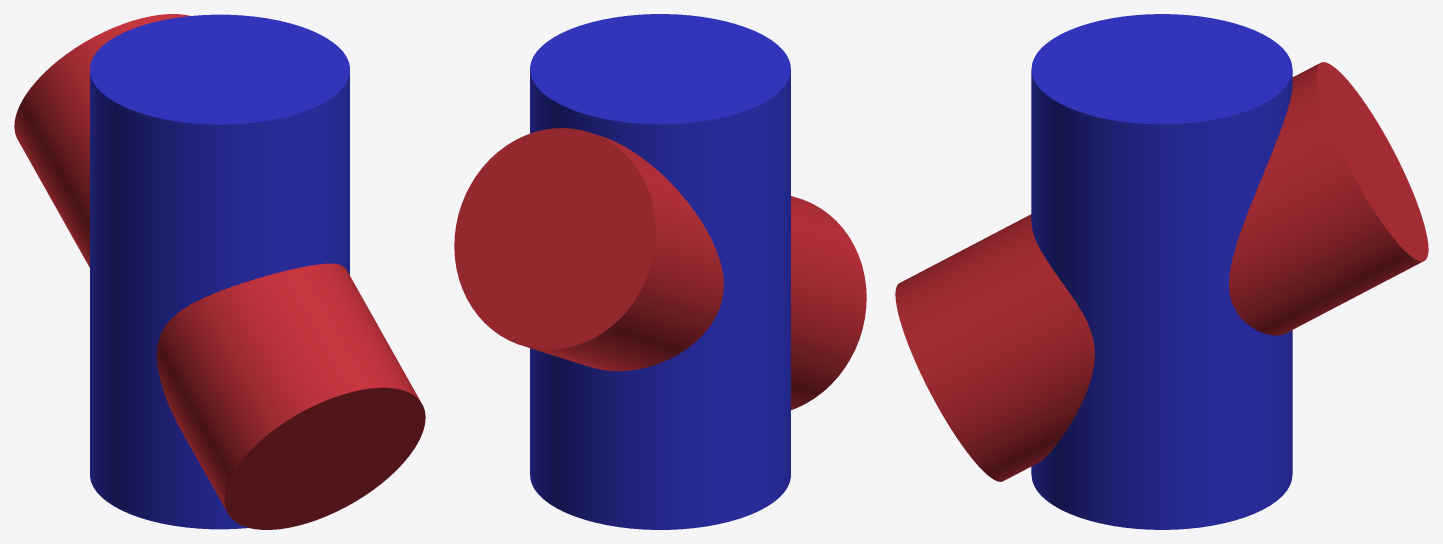
The picture shows the model from 3 angles, left to right: view 1: azimuth 30°, elevation 25°; view 2: azimuth 150°, elevation 25°; view 3: azimuth 270°, elevation 25°; orthographic projection.
Visible parts, largest first — view 1: upright, barrel; view 2: upright, barrel; view 3: upright, barrel.
Part boxes in pixels (box(x1,y1,x2,y2)): upright: box(90, 14, 349, 529); barrel: box(14, 14, 425, 529); upright: box(530, 14, 790, 529); barrel: box(454, 128, 866, 409); upright: box(1031, 14, 1292, 529); barrel: box(895, 62, 1428, 481).
Size of the model in its own units: 0.147 by 0.2521 by 0.3003.
